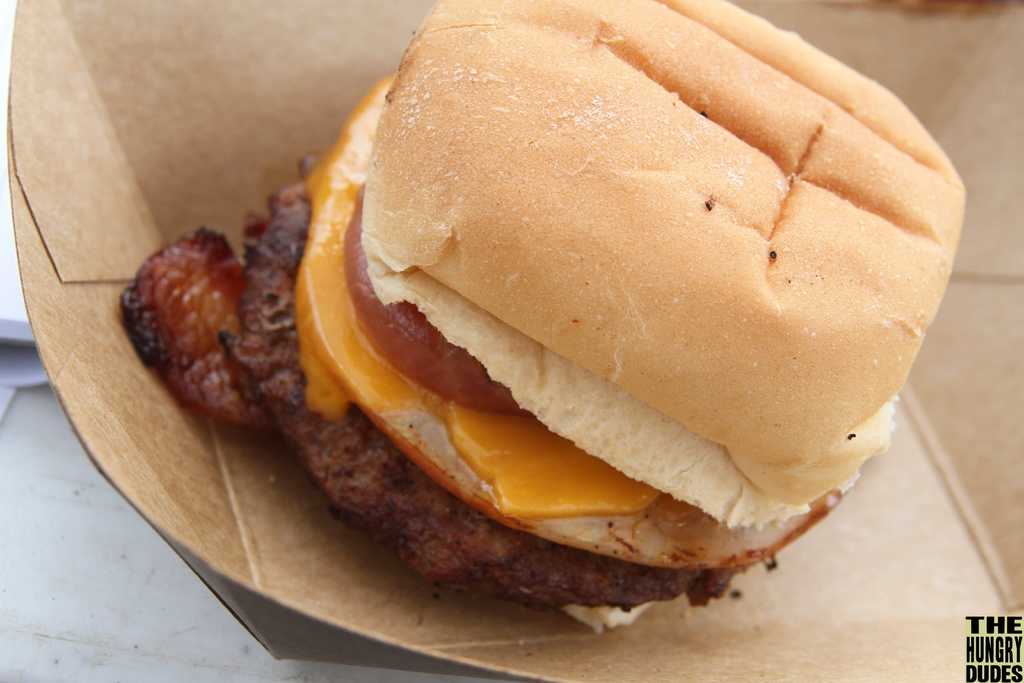Hamburger: (117, 0, 969, 629)
